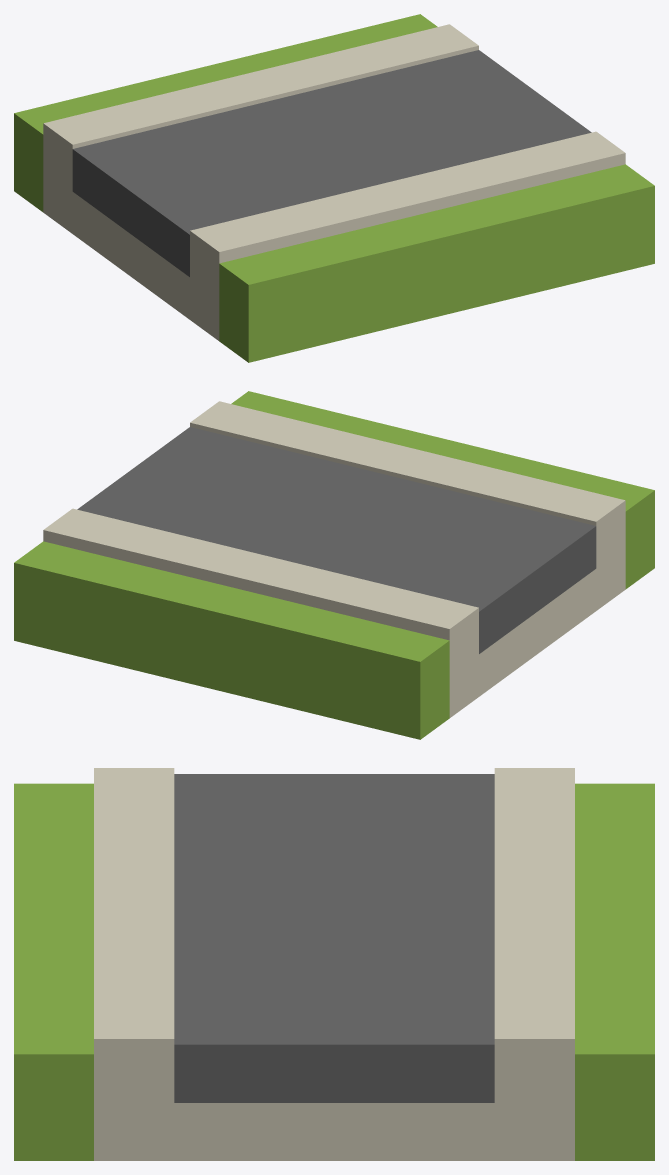
Rendered from tile034.dae.
The picture shows the model from 3 angles, top to bottom: view 1: azimuth 30°, elevation 25°; view 2: azimuth 150°, elevation 25°; view 3: azimuth 270°, elevation 25°; orthographic projection. The views are drawn at different scales.
Parts seen in each view (by area): view 1: tile034; view 2: tile034; view 3: tile034.
Boxes of the visible parts, box(x1,y1,x2,y2) form: tile034: box(14, 14, 654, 362); tile034: box(14, 391, 654, 739); tile034: box(14, 768, 654, 1160).
Size of the model in its own units: 1 by 0.21 by 1.
